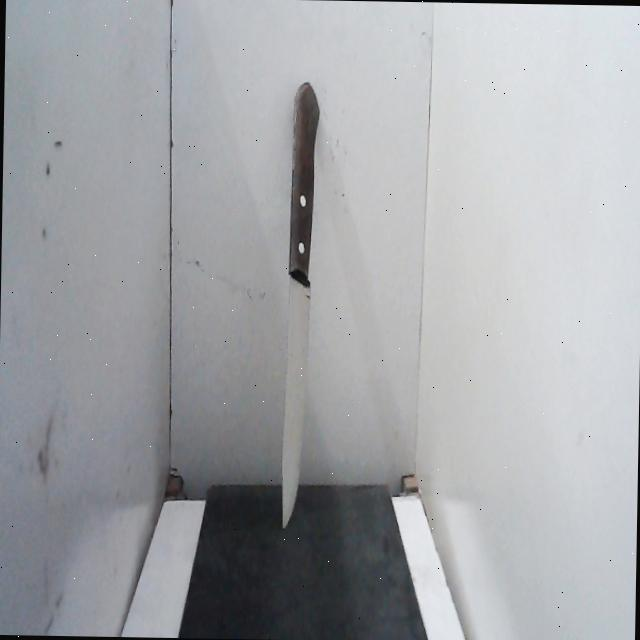metal: (273, 264, 314, 536)
